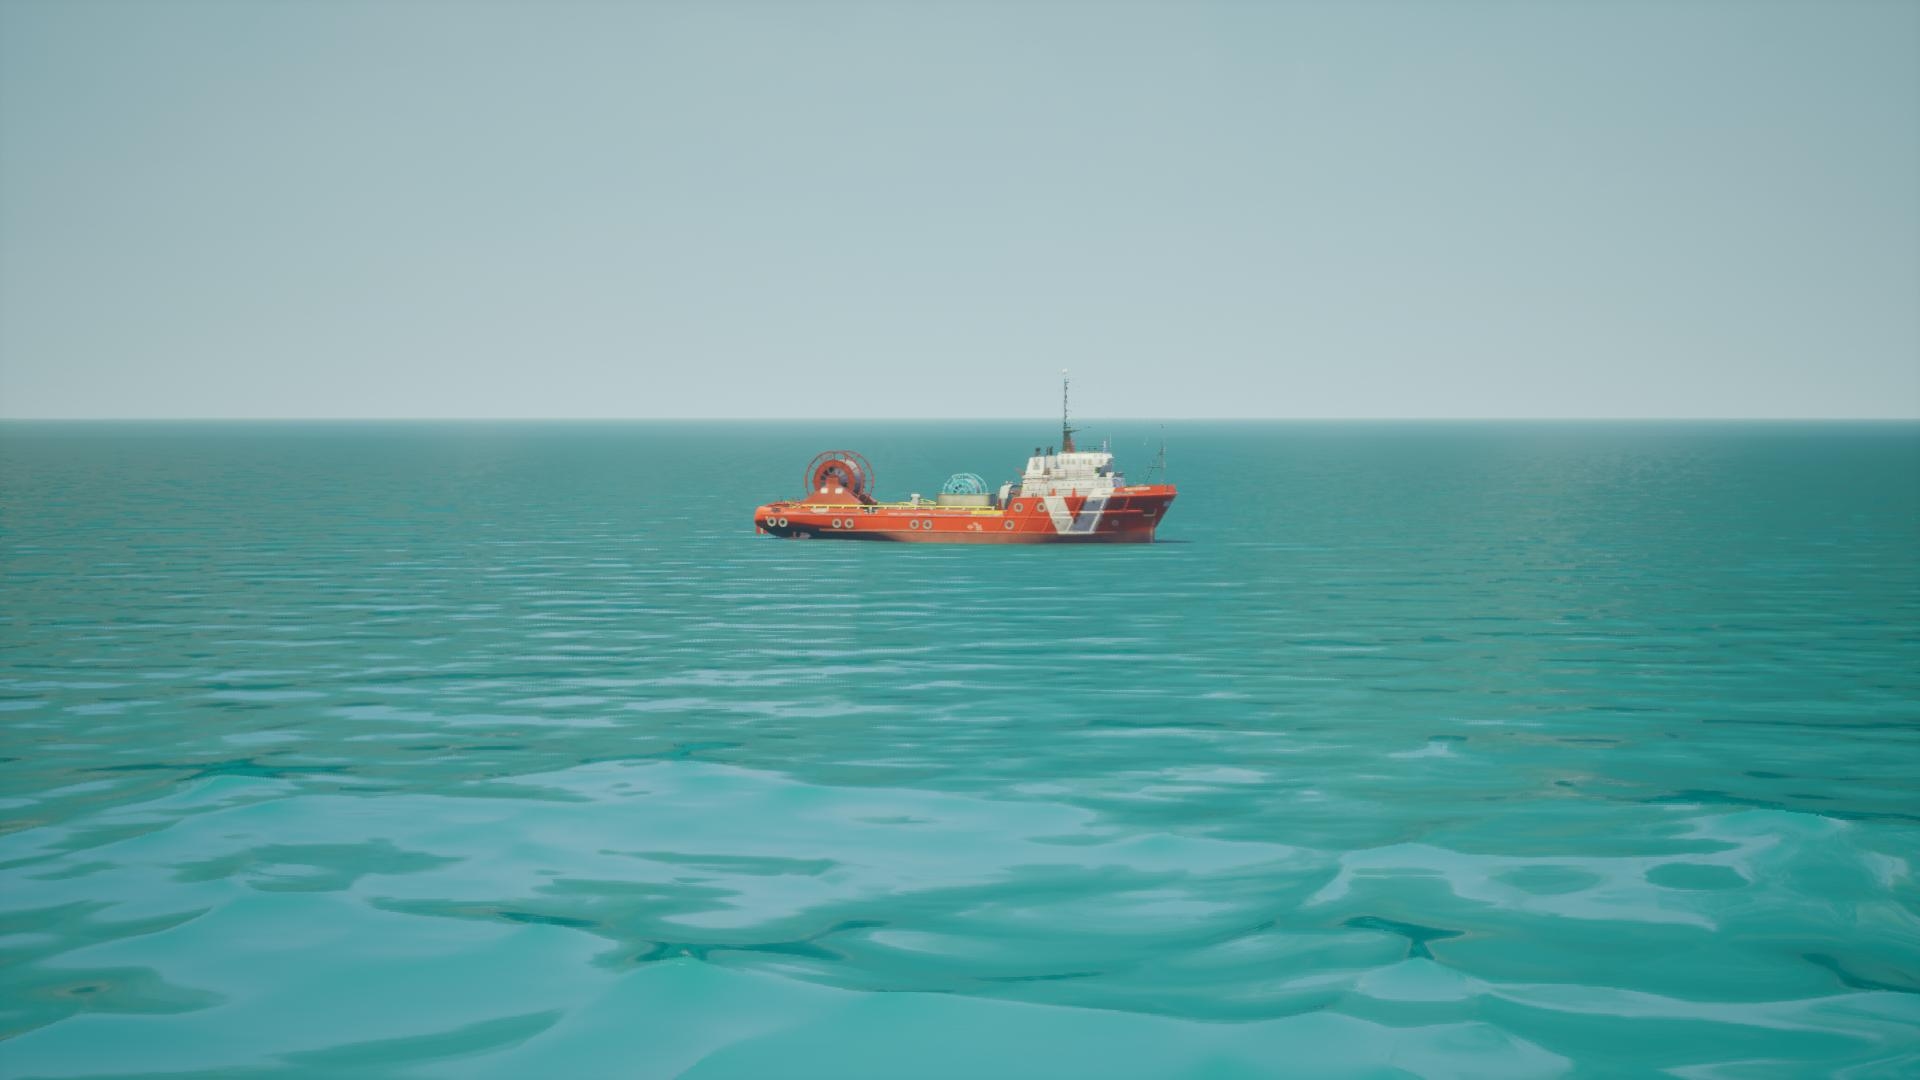Tug Boat: (754, 376, 1182, 547)
